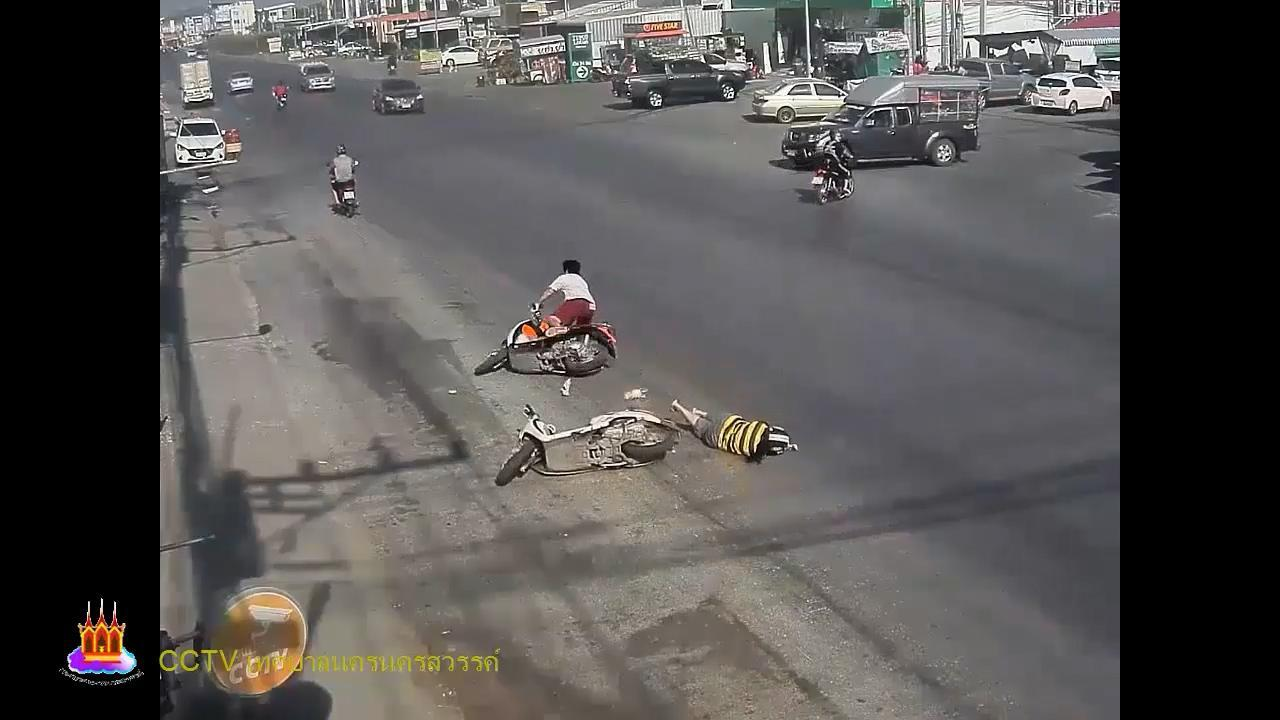accident: (671, 400, 799, 466)
